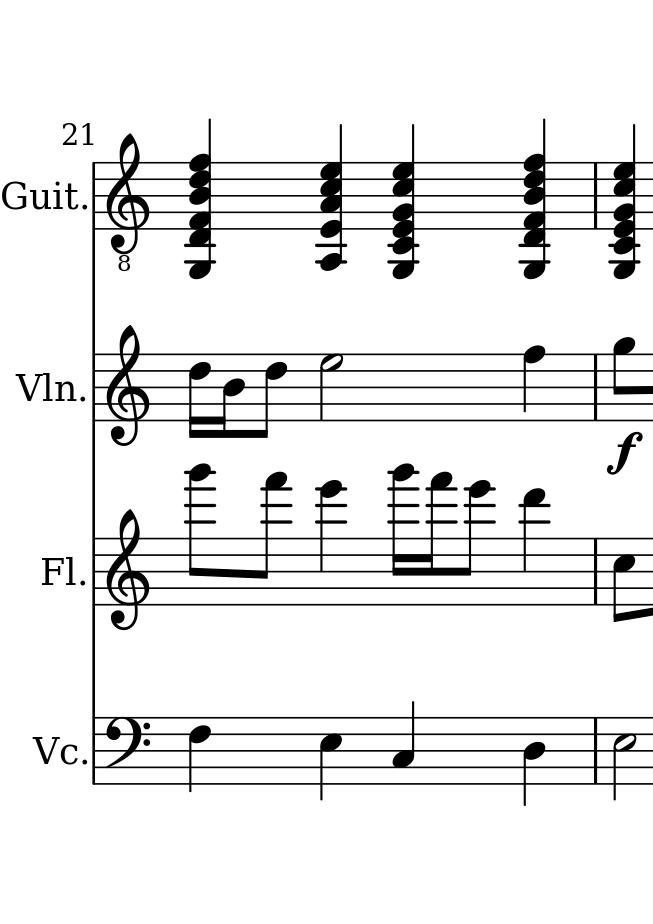1: (81, 121, 94, 150)
16_15: (419, 469, 455, 608)
16_16: (387, 462, 417, 608)
16_4: (217, 352, 245, 441)
16_6: (187, 352, 211, 441)
2: (61, 120, 80, 150)
2_5: (609, 716, 636, 805)
2_7: (317, 353, 344, 423)
4_13: (518, 488, 550, 607)
4_14: (314, 477, 347, 609)
4_3: (389, 698, 416, 787)
4_4: (521, 713, 548, 804)
4_5: (318, 715, 344, 798)
4_6: (186, 715, 214, 794)
4_8: (522, 344, 547, 424)
8_14: (459, 480, 494, 609)
8_15: (250, 468, 291, 608)
8_16: (183, 463, 216, 607)
8_5: (609, 535, 637, 626)
8_6: (251, 353, 287, 440)
8_9: (611, 335, 637, 423)
Fclef: (104, 716, 151, 788)
Fl: (38, 551, 77, 591)
Gclef: (103, 323, 154, 452), (104, 507, 154, 634)
Guit: (1, 177, 81, 215)
Lower_Gclef: (104, 126, 150, 273)
Single_barline: (587, 717, 605, 784), (587, 162, 604, 229), (588, 538, 604, 606), (87, 162, 102, 230), (87, 355, 102, 423), (88, 539, 102, 607), (589, 356, 604, 419), (87, 717, 101, 784)
Vln: (16, 367, 81, 406)
f: (603, 432, 645, 476)
